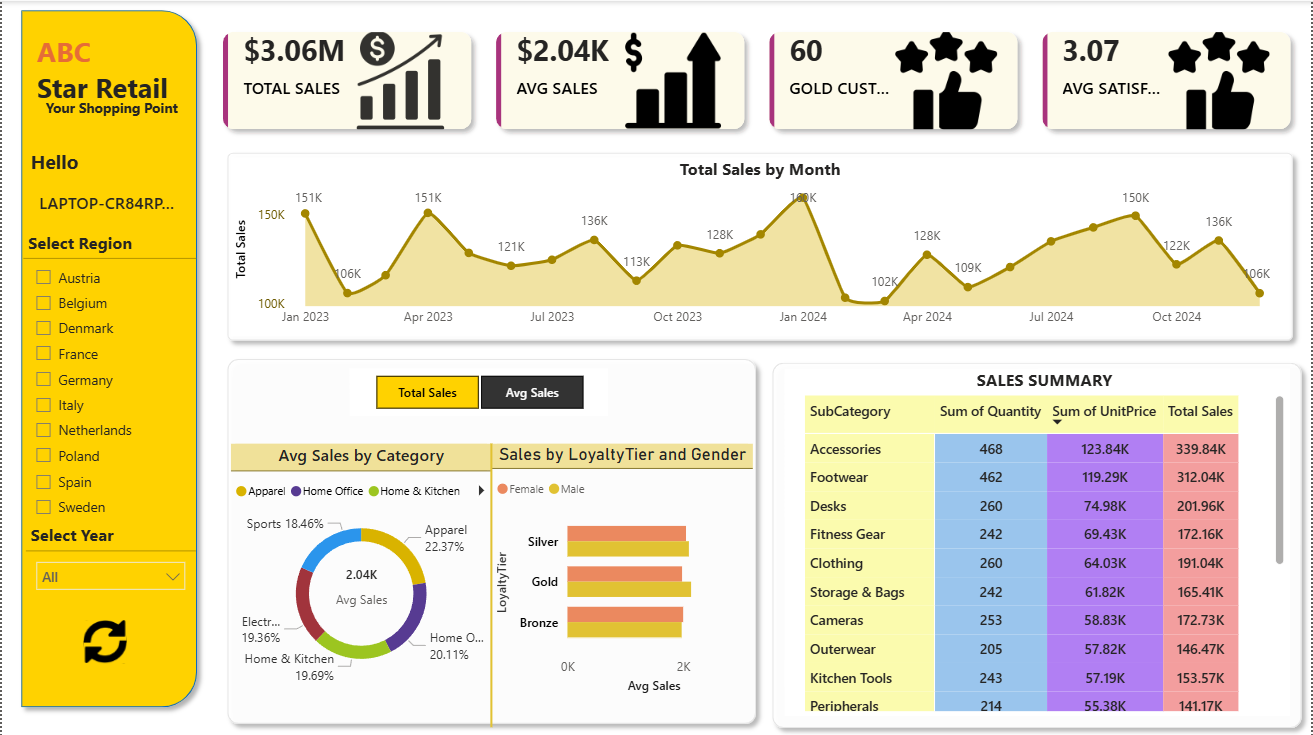

The dashboard page shown, as its layout file describes it:
{"tool":"powerbi","page":{"name":"Page 1","canvas":[1280,720],"ordinal":0},"visuals":[{"type":"shape","box":[9.8,0,190,700],"z":0},{"type":"textbox","box":[29.3,25.7,160.2,90.5],"z":1000},{"type":"textbox","box":[37.9,90.5,151.6,36.7],"z":2000},{"type":"textbox","box":[23.2,139.4,86.8,35.5],"z":3000},{"type":"card","fields":{"Values":["_Measures.User ID"]},"box":[29.3,174.9,146.7,50.1],"z":4000},{"type":"slicer","title":"Select Region","fields":{"Values":["Customers.Region"]},"box":[20.8,225,170,294.7],"z":5000},{"type":"slicer","title":"Select Year","fields":{"Values":["Calendar.Date.Variation.Date Hierarchy.Year","Calendar.Date.Variation.Date Hierarchy.Quarter","Calendar.Date.Variation.Date Hierarchy.Month"]},"box":[23.2,511.1,166.3,79.5],"z":6000},{"type":"cardVisual","fields":{"Data":["_Measures.Total Sales","_Measures.Avg Sales","_Measures.Gold Customers","_Measures.Avg Satisfation Score"]},"box":[199.3,13.5,1081,129.6],"z":7000},{"type":"shape","box":[211.6,139.4,1060.2,201.8],"z":8000},{"type":"lineChart","title":"Total Sales by Month","fields":{"Y":["_Measures.Total Sales"],"Category":["Calendar.Date.Variation.Date Hierarchy.Year","Calendar.Date.Variation.Date Hierarchy.Quarter","Calendar.Date.Variation.Date Hierarchy.Month"]},"box":[223.8,152.9,1035.7,174.9],"z":9000},{"type":"shape","box":[211.6,341.2,535,375],"z":10000},{"type":"shape","box":[744.7,344.8,535.6,375.4],"z":11000},{"type":"slicer","fields":{"Values":["Sales Parameters.Sales Parameters"]},"box":[339.9,359.5,253.1,46.5],"z":12000},{"type":"donutChart","fields":{"Y":["_Measures.Avg Sales"],"Category":["Products.Category"]},"box":[223.8,432.9,255.6,238.5],"z":13000},{"type":"cardVisual","fields":{"Data":["_Measures.Avg Sales"]},"box":[298.4,523.4,107.6,99],"z":14000},{"type":"clusteredBarChart","title":"Sales by LoyaltyTier and Gender","fields":{"Y":["_Measures.Avg Sales"],"Category":["Customers.LoyaltyTier"],"Series":["Customers.Gender"]},"box":[479.4,432.9,255.6,248.2],"z":15000},{"type":"shape","box":[464.7,432.9,28.1,277.6],"z":16000},{"type":"actionButton","box":[75.8,601.6,53.8,50.1],"z":17000},{"type":"pivotTable","title":"SALES SUMMARY","fields":{"Rows":["Products.SubCategory"],"Values":["Sum(SalesData.Quantity)","Sum(SalesData.UnitPrice)","_Measures.Total Sales"]},"box":[765.5,359.5,494,339.9],"z":18000}]}

Visuals, with their boxes in screenshot pixels (x1, y1, x2, y2), scaled from the page's 1280x720 canvas onto the 1313x735 screenshot:
shape: region(10, 0, 205, 715)
textbox: region(30, 26, 194, 119)
textbox: region(39, 92, 194, 130)
textbox: region(24, 142, 113, 179)
card - _Measures.User ID: region(30, 179, 181, 230)
"Select Region" slicer: region(21, 230, 196, 531)
"Select Year" slicer: region(24, 522, 194, 603)
cardVisual - _Measures.Total Sales x _Measures.Avg Sales: region(204, 14, 1312, 146)
shape: region(217, 142, 1305, 348)
"Total Sales by Month" lineChart: region(230, 156, 1292, 335)
shape: region(217, 348, 766, 731)
shape: region(764, 352, 1312, 734)
slicer - Sales Parameters.Sales Parameters: region(349, 367, 608, 414)
donutChart - _Measures.Avg Sales x Products.Category: region(230, 442, 492, 685)
cardVisual - _Measures.Avg Sales: region(306, 534, 416, 635)
"Sales by LoyaltyTier and Gender" clusteredBarChart: region(492, 442, 754, 695)
shape: region(477, 442, 506, 725)
actionButton: region(78, 614, 133, 665)
"SALES SUMMARY" pivotTable: region(785, 367, 1292, 714)
